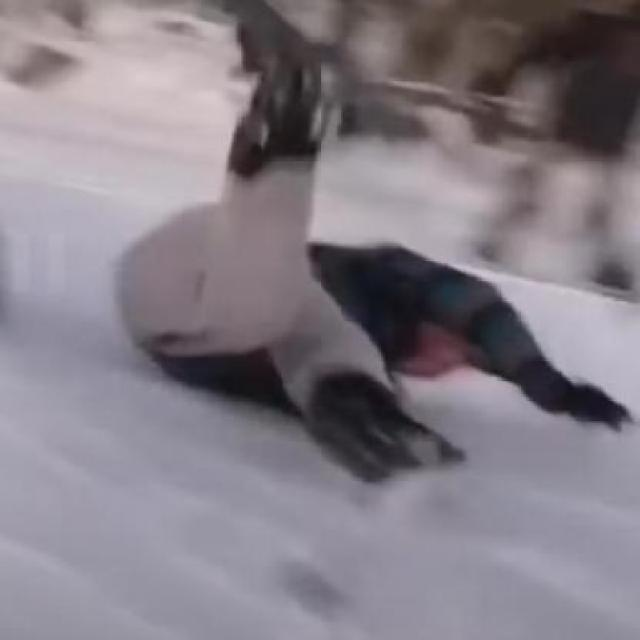fall: (136, 52, 639, 488)
